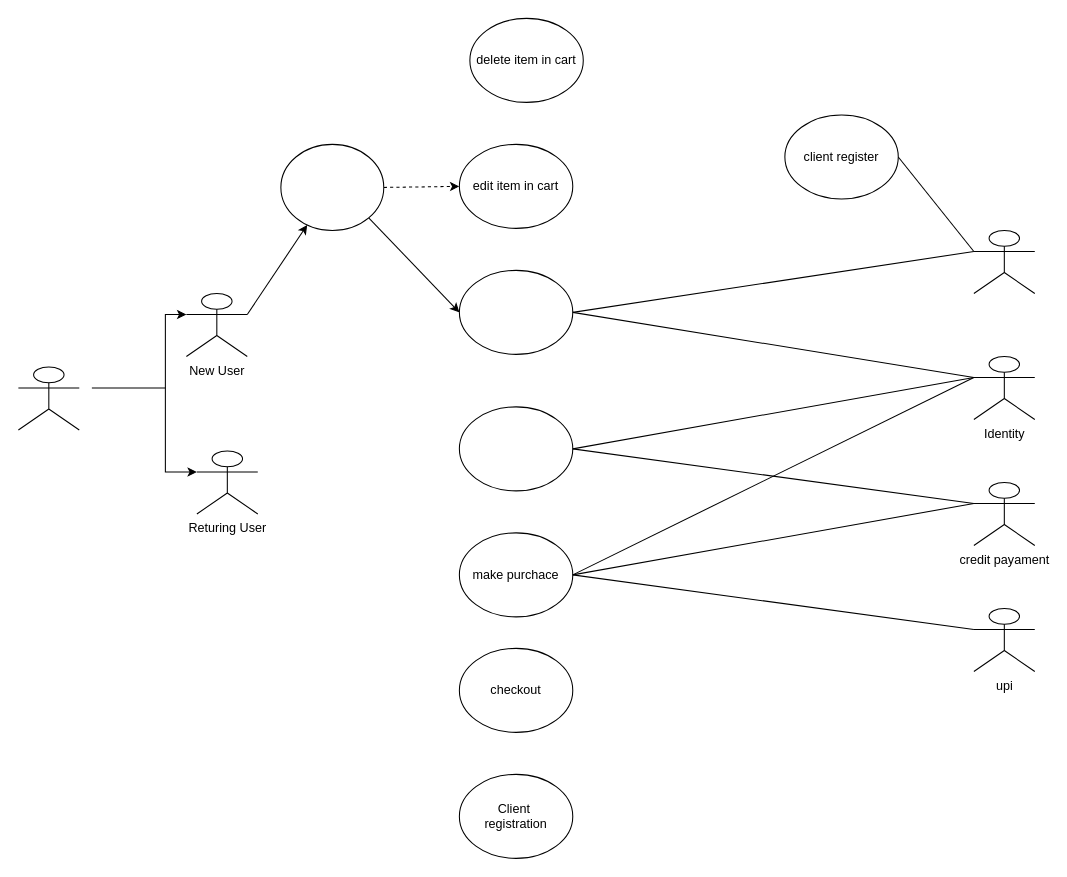
The diagram is 1067 pixels wide and 877 high, and some of its shapes have lost their labels. The centre of each missing label's shape, as x and y in pixels:
add item in cart: [515,311]
manage cart: [332,186]
Server Authentication: [1004,261]
User: [48,398]
view item: [515,448]
